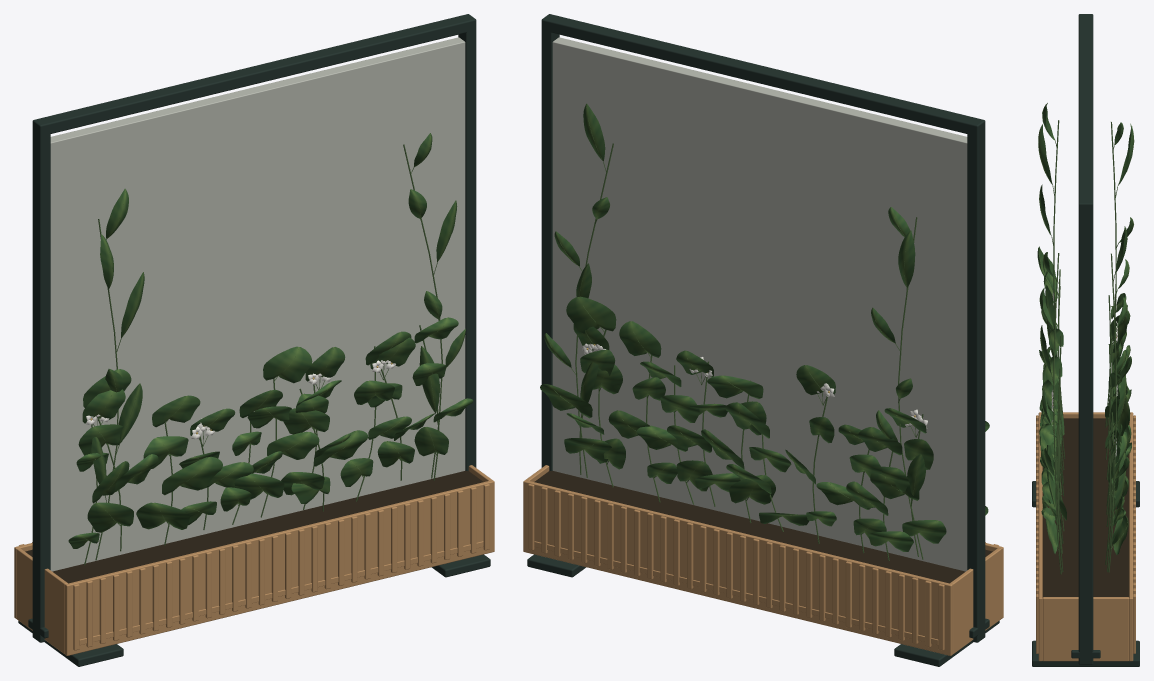
The model's file is botanicalDivider-1.glb.
3 renders of one model, left to right at view 1: azimuth 30°, elevation 25°; view 2: azimuth 150°, elevation 25°; view 3: azimuth 270°, elevation 25°, orthographic. The views are drawn at different scales.
Visible parts, largest first — view 1: Botanical_felt_screen, Botanical_frame_finish, Botanical_living_foliage, Botanical_powdercoat, Botanical_recessed_soil, Botanical_connected_stems; view 2: Botanical_felt_screen, Botanical_frame_finish, Botanical_living_foliage, Botanical_powdercoat, Botanical_recessed_soil, Botanical_connected_stems; view 3: Botanical_powdercoat, Botanical_living_foliage, Botanical_recessed_soil, Botanical_frame_finish, Botanical_connected_stems, Botanical_leaf_midribs.
Part boxes in pixels (<box>): Botanical_felt_screen: <box>50,37,465,571</box>; Botanical_frame_finish: <box>14,465,494,655</box>; Botanical_living_foliage: <box>68,133,473,548</box>; Botanical_powdercoat: <box>18,14,490,666</box>; Botanical_recessed_soil: <box>25,471,483,583</box>; Botanical_connected_stems: <box>84,144,442,565</box>; Botanical_felt_screen: <box>552,37,967,571</box>; Botanical_frame_finish: <box>523,465,1003,655</box>; Botanical_living_foliage: <box>540,103,989,551</box>; Botanical_powdercoat: <box>527,14,999,666</box>; Botanical_recessed_soil: <box>534,471,992,583</box>; Botanical_connected_stems: <box>571,143,923,560</box>; Botanical_powdercoat: <box>1032,14,1139,666</box>; Botanical_living_foliage: <box>1037,103,1133,554</box>; Botanical_recessed_soil: <box>1042,418,1129,597</box>; Botanical_frame_finish: <box>1036,412,1135,661</box>; Botanical_connected_stems: <box>1051,120,1118,574</box>; Botanical_leaf_midribs: <box>1037,112,1134,542</box>.
Bounding box in the file's own units: 2 × 2.3 × 0.4798.
